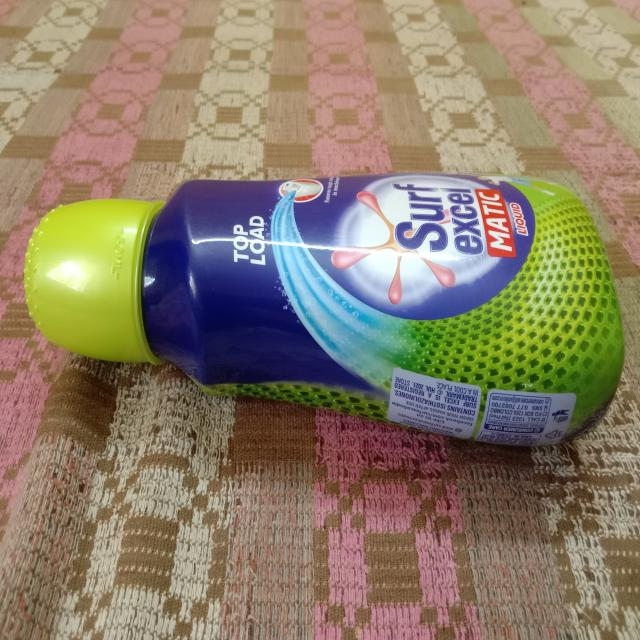detergent: (29, 174, 640, 446)
